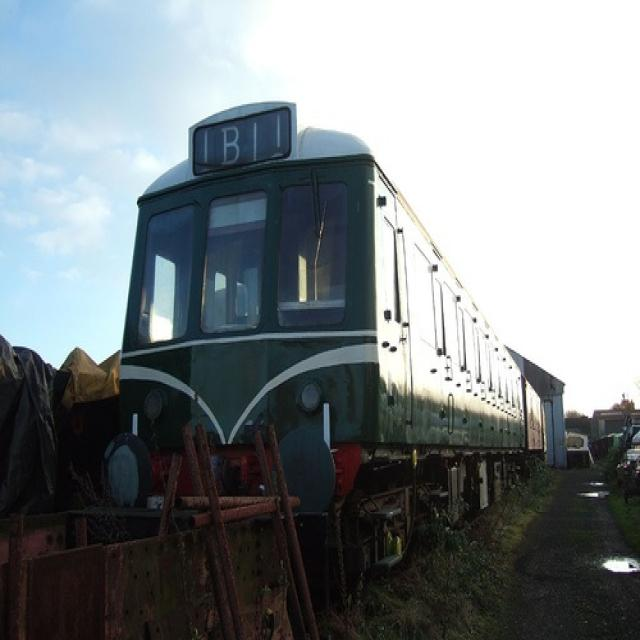train: (97, 97, 547, 601)
